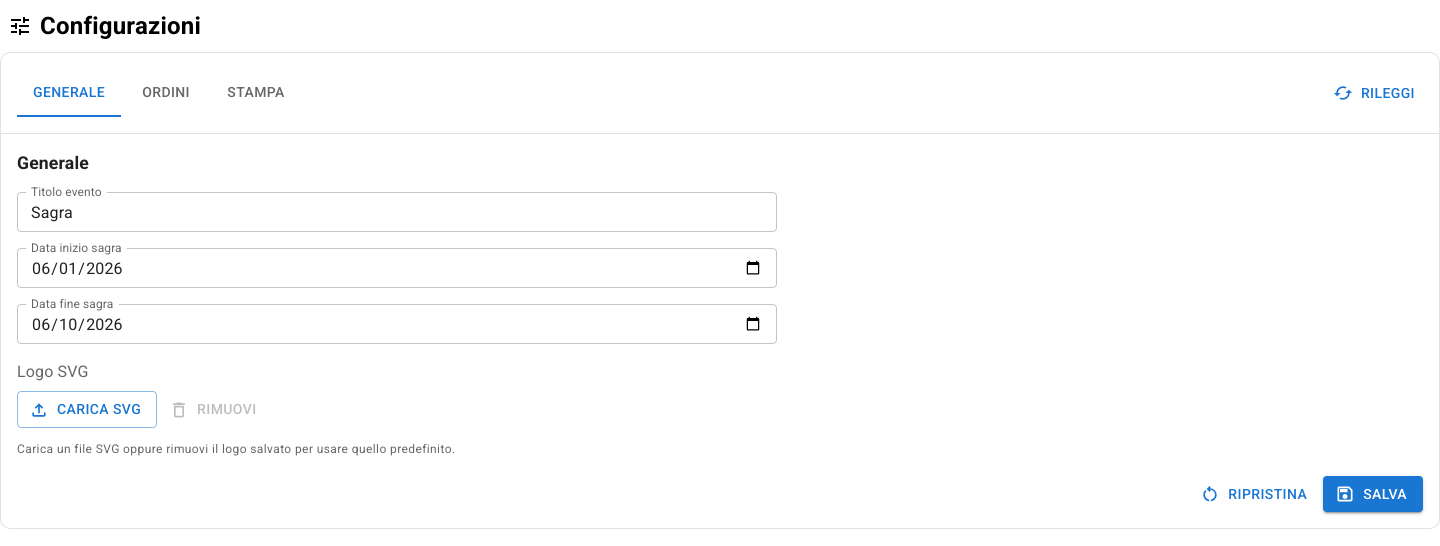
Scenario: ConfigurationContainer › mostra le opzioni di stampa come radio button
Click the tab "Stampa". click: (256, 93)
box: [211,69,301,117]
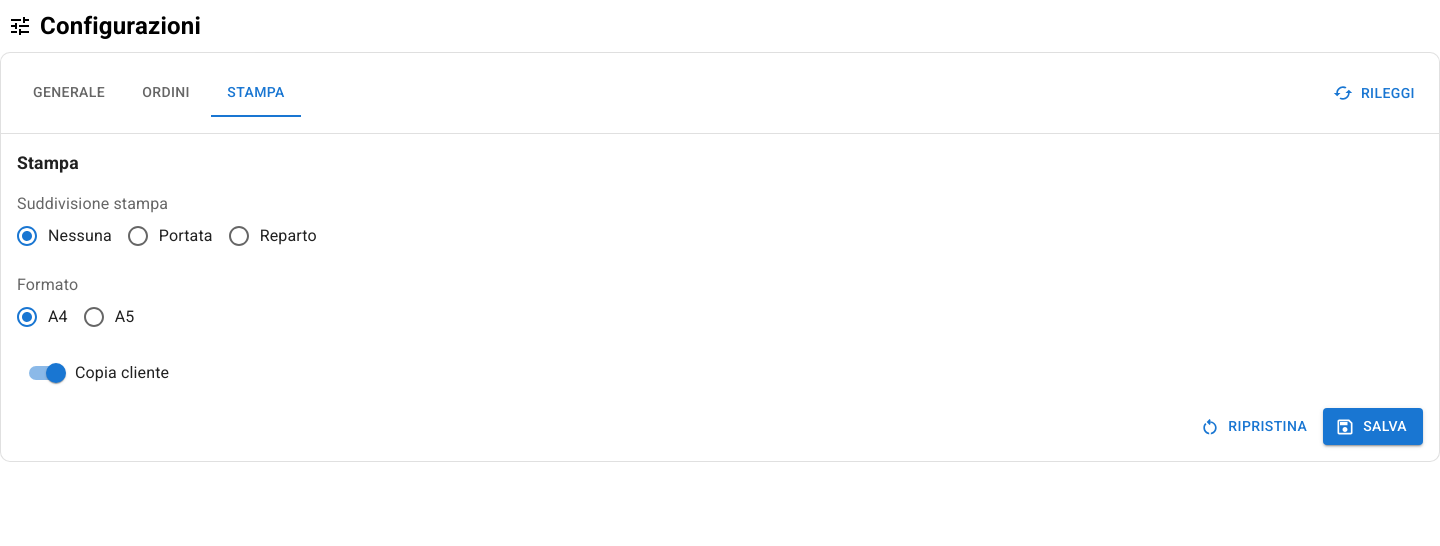
Expected: the radio button labelled "Nessuna" is checked, [15,224,112,248]
Expected: the radio button labelled "Portata" is shown, [126,224,213,248]
Expected: the radio button labelled "Reparto" is shown, [227,224,317,248]
